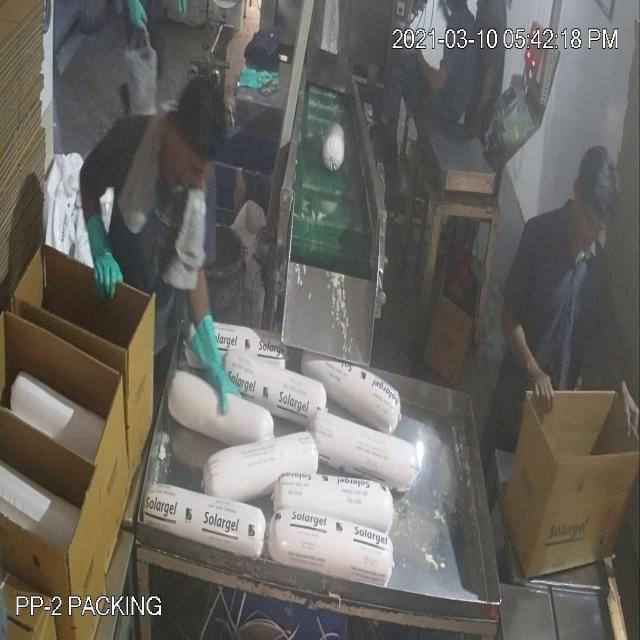Gloves: (39, 90, 620, 392)
